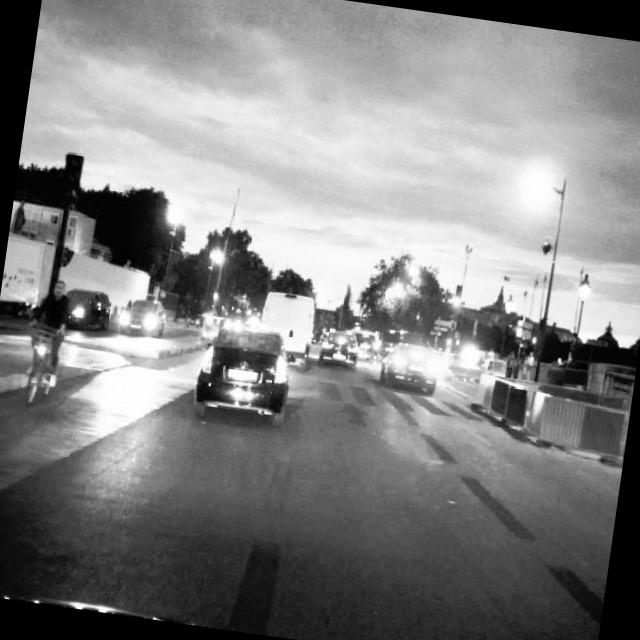Truck: (0, 226, 47, 336)
